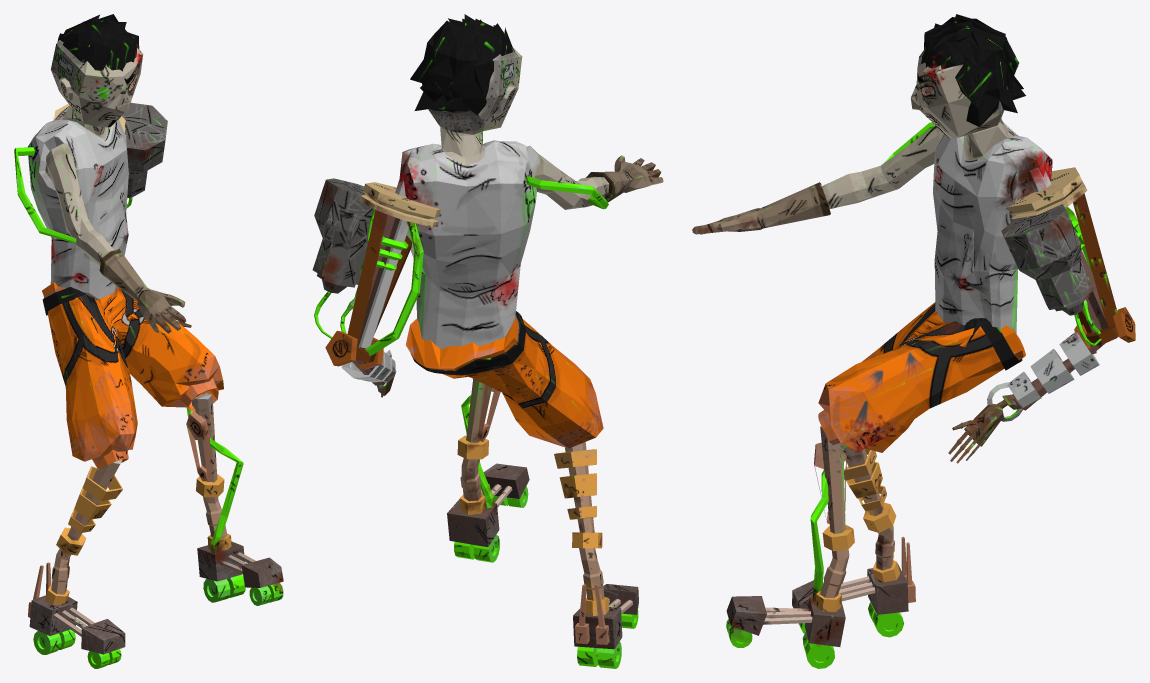
File: CyborgFINALAnimation_000006.obj
3 renders of one model, left to right at view 1: azimuth 30°, elevation 25°; view 2: azimuth 150°, elevation 25°; view 3: azimuth 270°, elevation 25°, orthographic. The views are drawn at different scales.
Visible parts, largest first — view 1: CyborgMesh_Cube.002; view 2: CyborgMesh_Cube.002; view 3: CyborgMesh_Cube.002.
Part boxes in pixels (left/top/right/bottom): CyborgMesh_Cube.002: left=14, top=14, right=283, bottom=668; CyborgMesh_Cube.002: left=312, top=14, right=663, bottom=668; CyborgMesh_Cube.002: left=692, top=14, right=1135, bottom=668.
Bounding box in the file's own units: 3.23 × 9.09 × 5.59.
